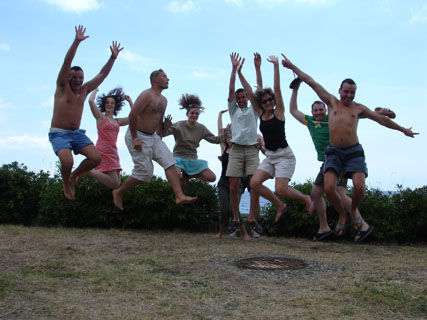person: (281, 50, 422, 239), (288, 77, 397, 243), (48, 25, 125, 203), (238, 56, 318, 226), (112, 67, 199, 214), (226, 51, 265, 229), (167, 94, 228, 187), (85, 84, 135, 193)
